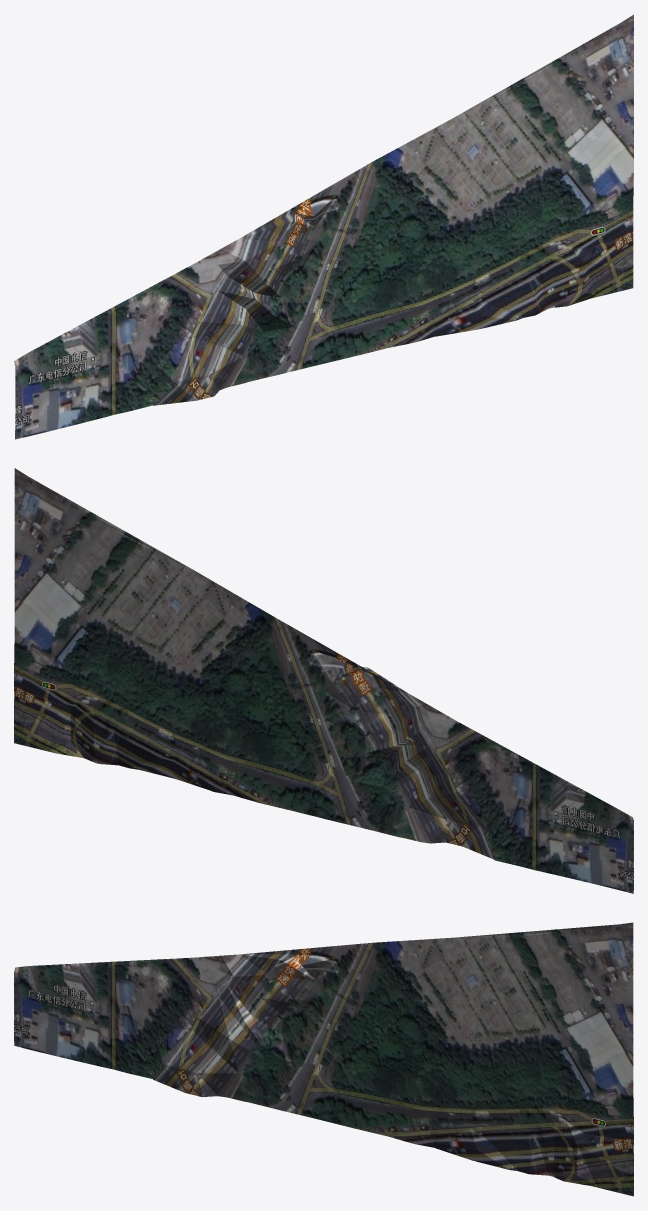
3 views of the same model, one above another, from view 1: azimuth 30°, elevation 25°; view 2: azimuth 150°, elevation 25°; view 3: azimuth 330°, elevation 25° (orthographic).
Parts seen in each view (by area): view 1: 0_2_1_3_2_2; view 2: 0_2_1_3_2_2; view 3: 0_2_1_3_2_2.
Part boxes in pixels (<box>): 0_2_1_3_2_2: <box>14,14,633,439</box>; 0_2_1_3_2_2: <box>14,468,633,893</box>; 0_2_1_3_2_2: <box>14,922,633,1196</box>.
Bounding box in the file's own units: 486 × 206 × 9.62.
1 material, 1 textured.
